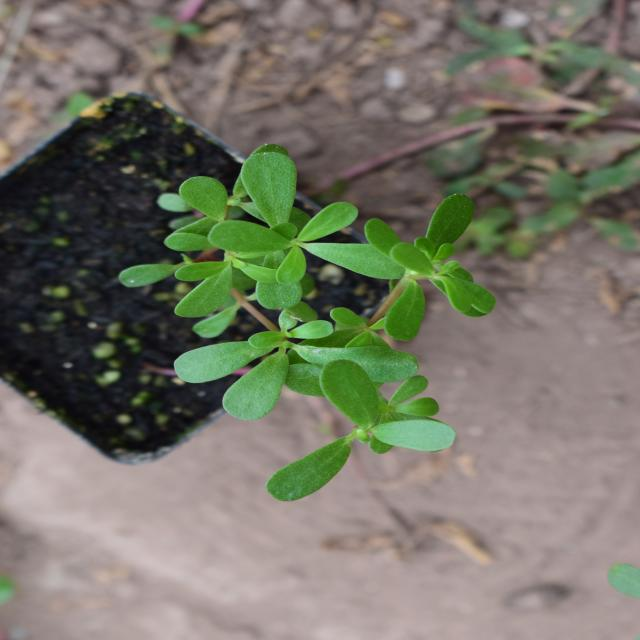purslane: (132, 112, 518, 516)
